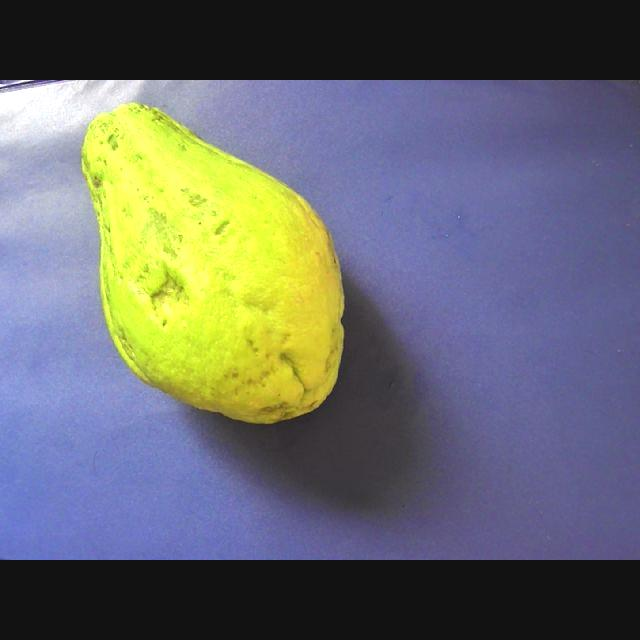chayote: (82, 104, 344, 422)
